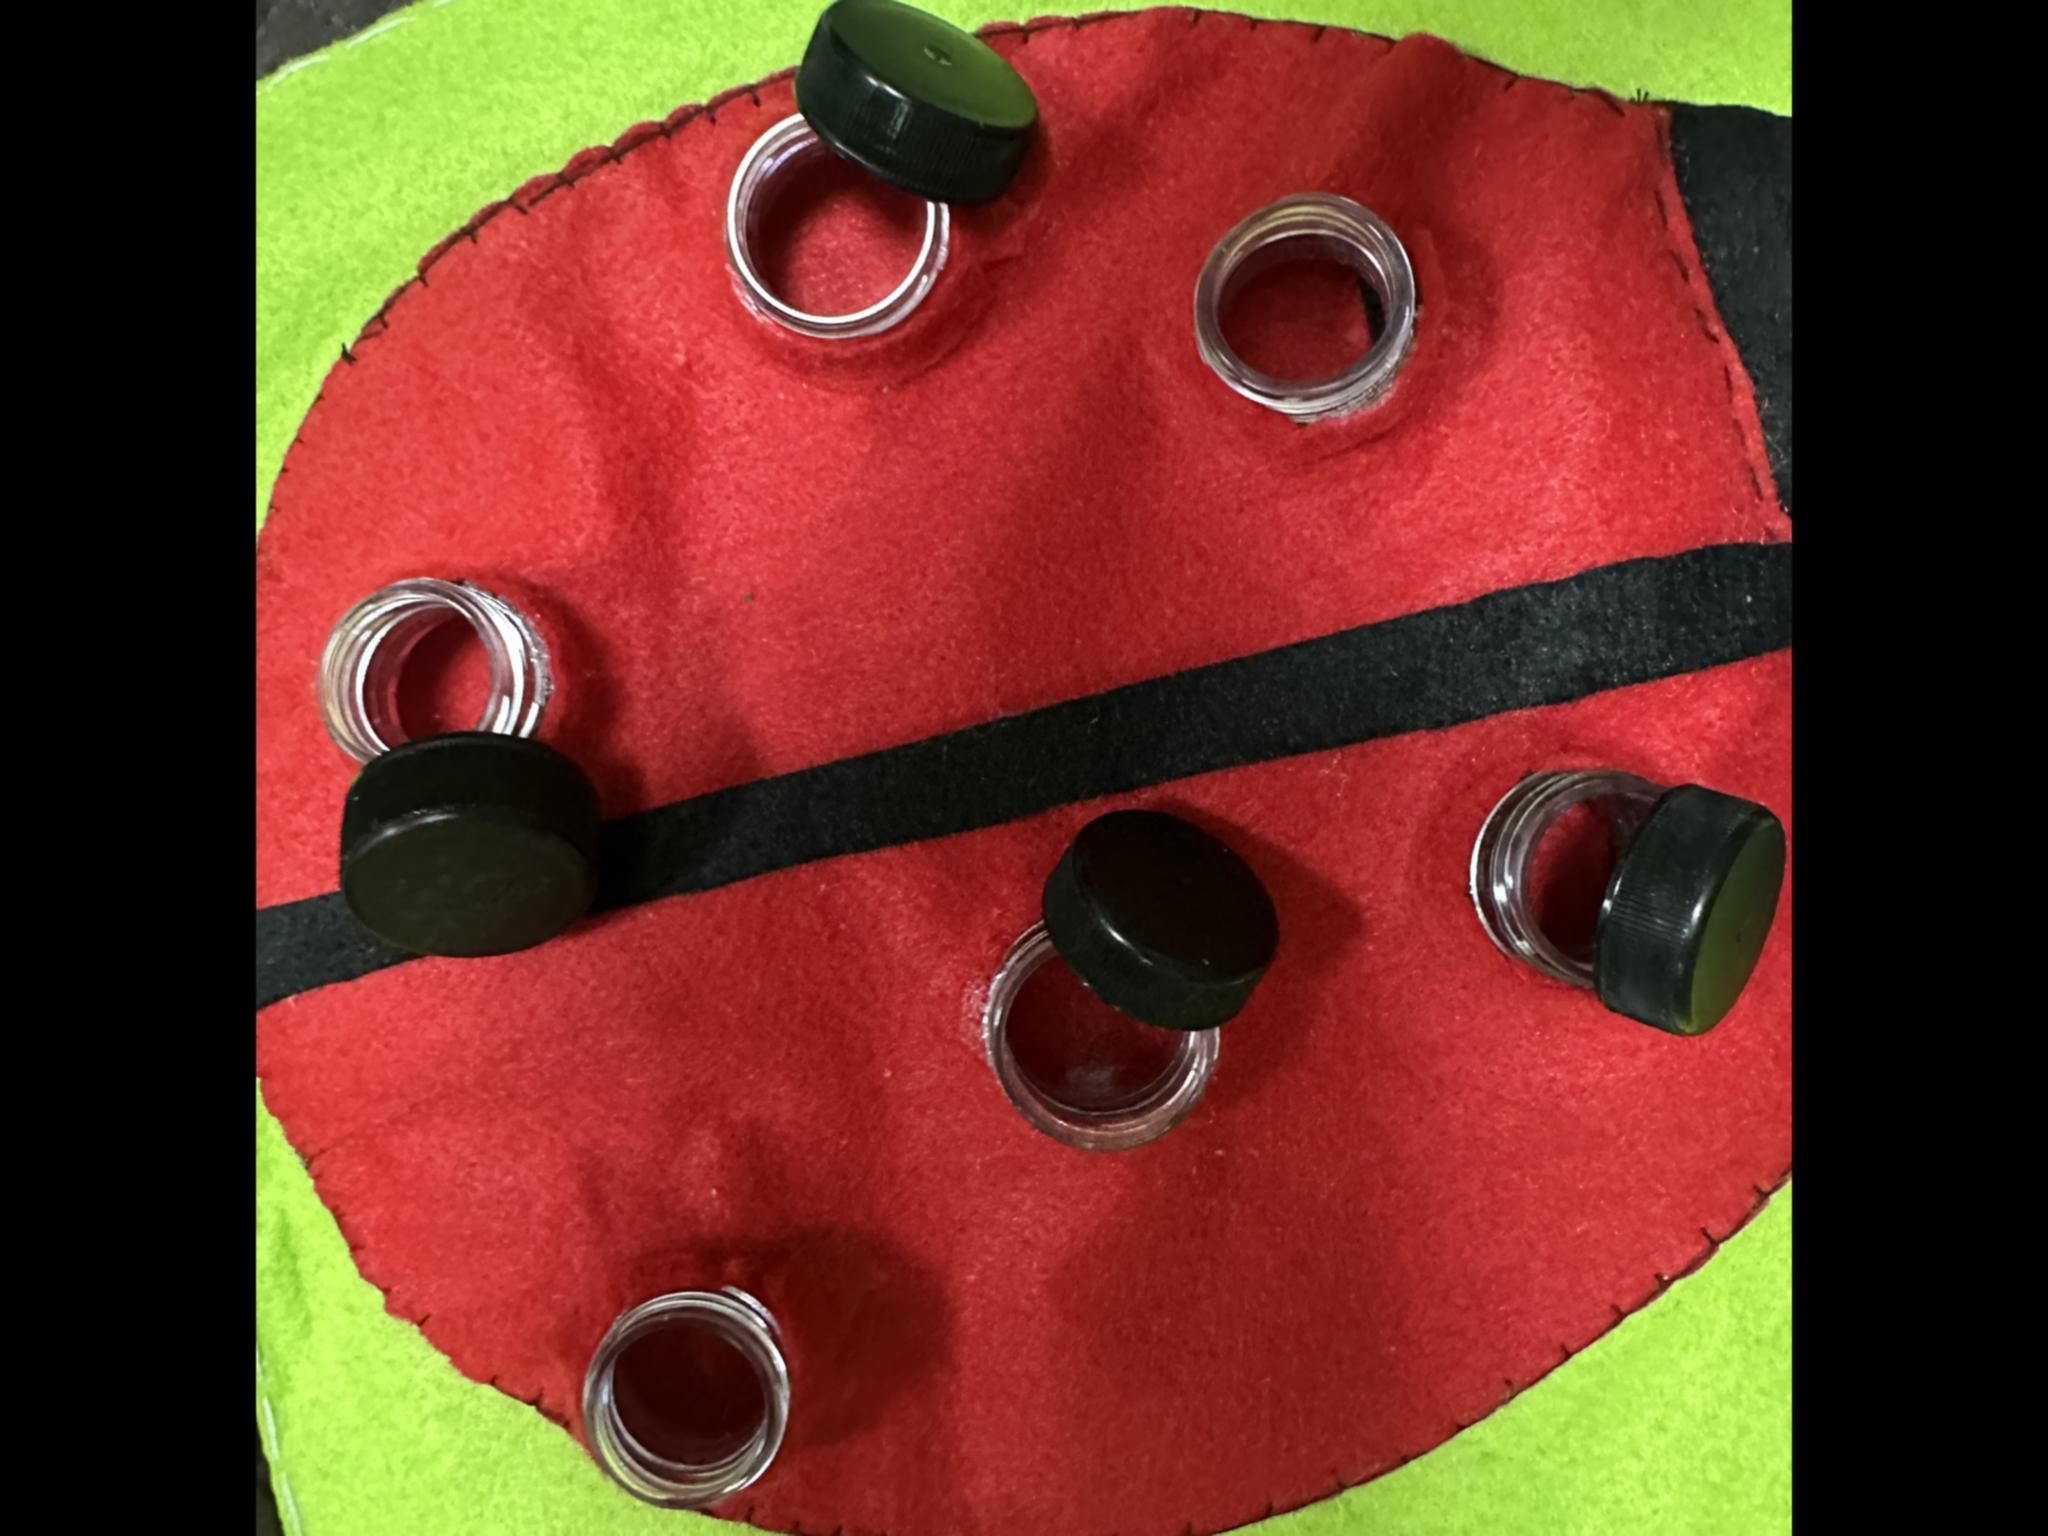cap_ng: (695, 0, 1055, 379), (314, 553, 621, 975), (956, 800, 1293, 1165), (1434, 758, 1792, 1063)
